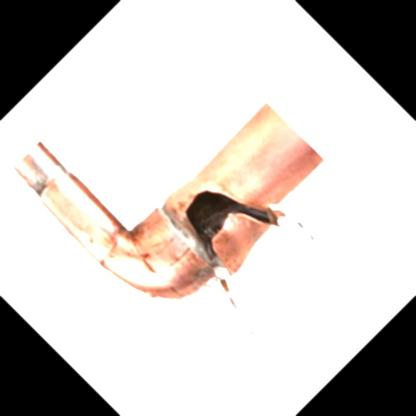burst: (169, 192, 305, 298)
